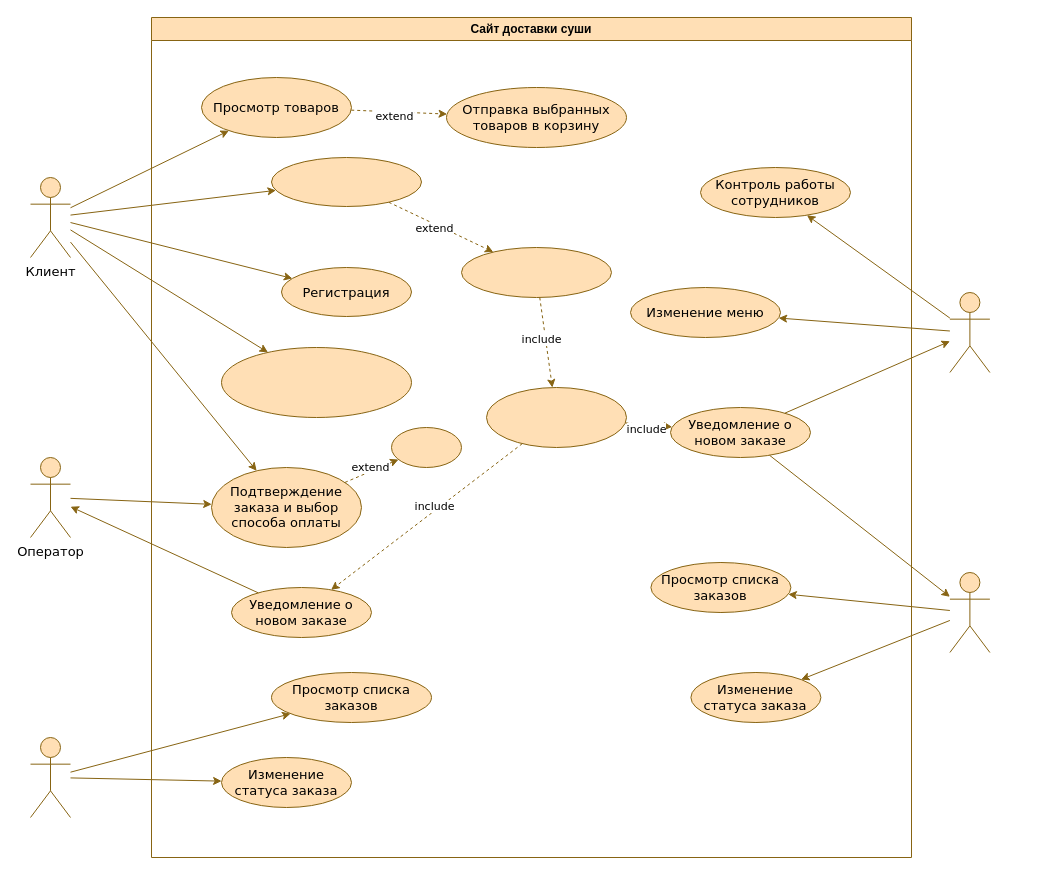
Some shapes in this 1048 by 875 pixel diagram are drawn without their labels. Each missing label, with the centre of its shape:
"Администратор службы доставки" goes at [969,332].
"Возможность оставить отзыв после получения заказа" goes at [316,382].
"Курьер" goes at [50,777].
"Оплата" goes at [426,447].
"Повар" goes at [969,612].
"Просмотр корзины" goes at [346,181].
"Создание заказа" goes at [536,272].
"Список заказов" goes at [556,417].
